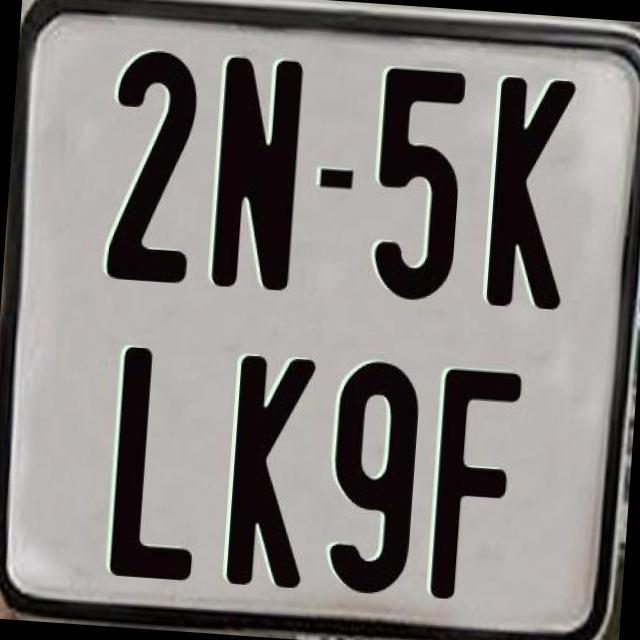2: (104, 48, 204, 292)
5: (366, 63, 466, 308)
9: (324, 354, 420, 596)
F: (428, 362, 522, 606)
K: (224, 351, 318, 585), (486, 73, 576, 314)
L: (105, 346, 202, 580)
N: (207, 50, 306, 289)
